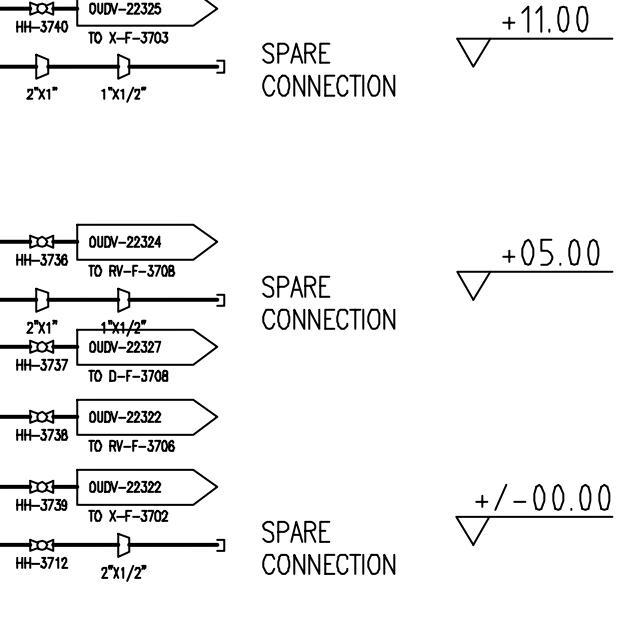BV2: (22, 231, 57, 251), (24, 407, 57, 426), (27, 336, 57, 356), (25, 478, 57, 495), (26, 536, 57, 553), (25, 0, 58, 15)
EC: (192, 532, 228, 556), (195, 52, 228, 76), (193, 289, 228, 308)
SP: (30, 283, 50, 315), (110, 285, 132, 314), (113, 531, 135, 560), (111, 53, 133, 81), (32, 48, 51, 80)
